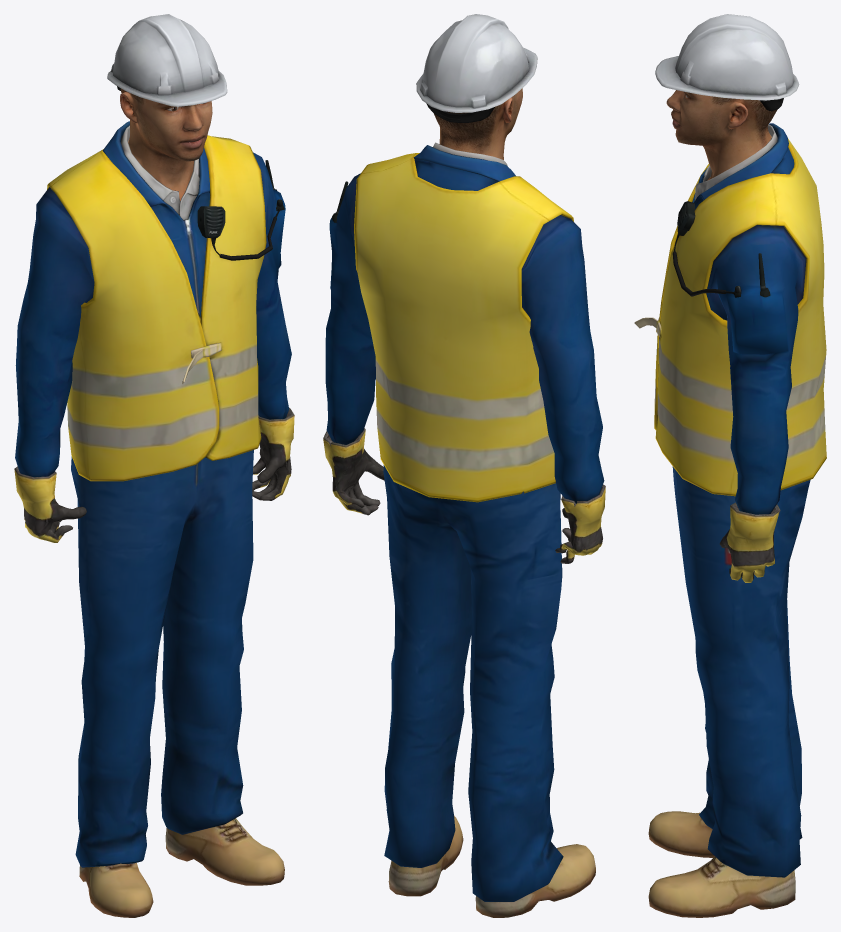
The model's file is builder.glb.
The picture shows the model from 3 angles, left to right: view 1: azimuth 30°, elevation 25°; view 2: azimuth 150°, elevation 25°; view 3: azimuth 270°, elevation 25°; orthographic projection.
Visible parts, largest first — view 1: builder; view 2: builder; view 3: builder.
Boxes of the visible parts, x1,y1,x2,y2 form: builder: (14,14,294,917); builder: (323,14,605,917); builder: (634,14,826,917).
Size of the model in its own units: 0.6088 by 1.83 by 0.3732.
3 materials, 3 textured.
